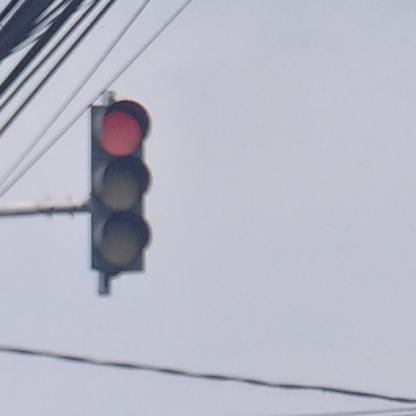red: (90, 102, 151, 272)
